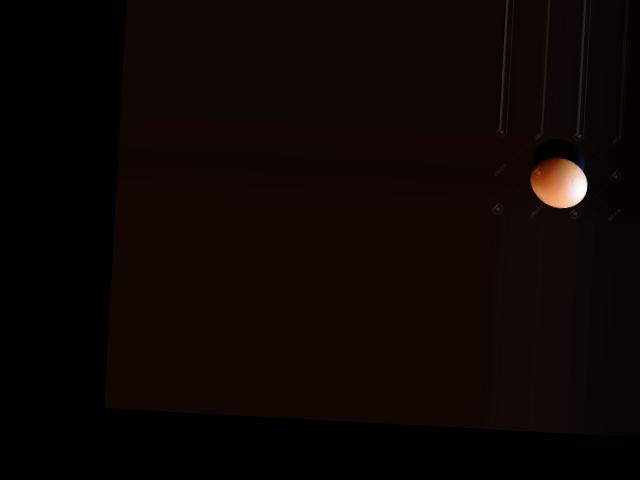egg: (528, 155, 588, 209)
